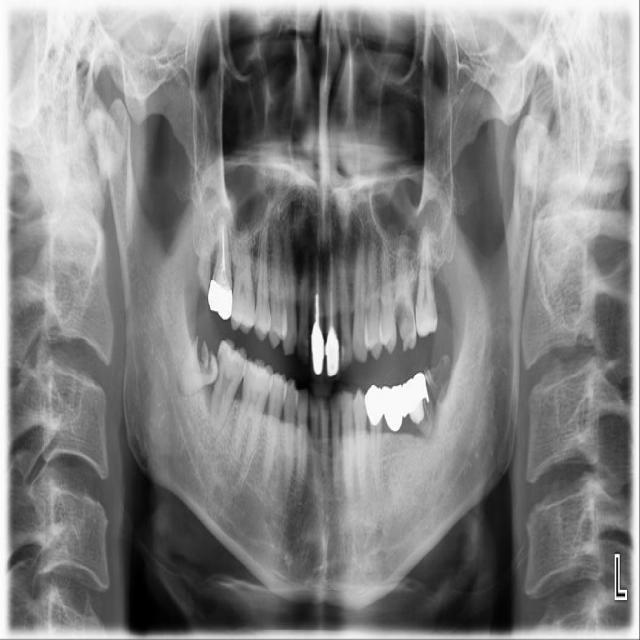Caries: (395, 300, 415, 340)
Crown: (365, 372, 430, 432), (208, 275, 233, 320), (310, 325, 325, 380), (325, 326, 340, 380)
Filling: (197, 337, 212, 372)
Root Canal Treatment: (328, 260, 336, 330), (314, 252, 321, 296), (221, 223, 225, 271)
impacted tooth: (174, 339, 219, 395)
